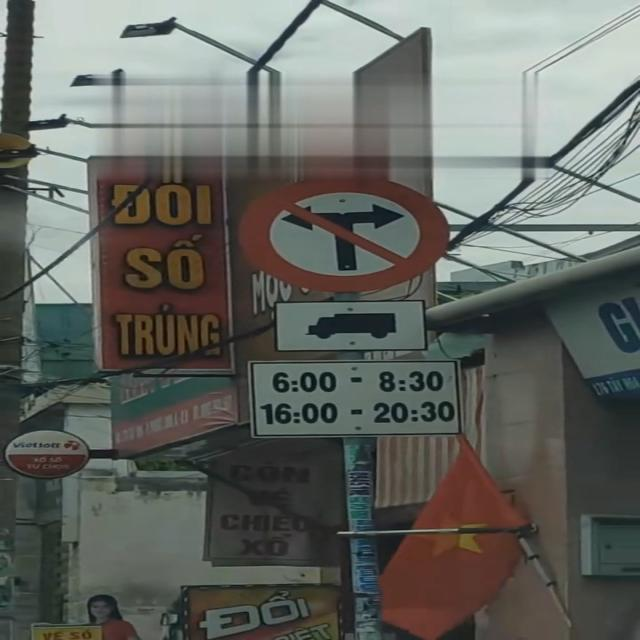137-cam-re-trai-va-re-phai: (228, 172, 457, 292)
